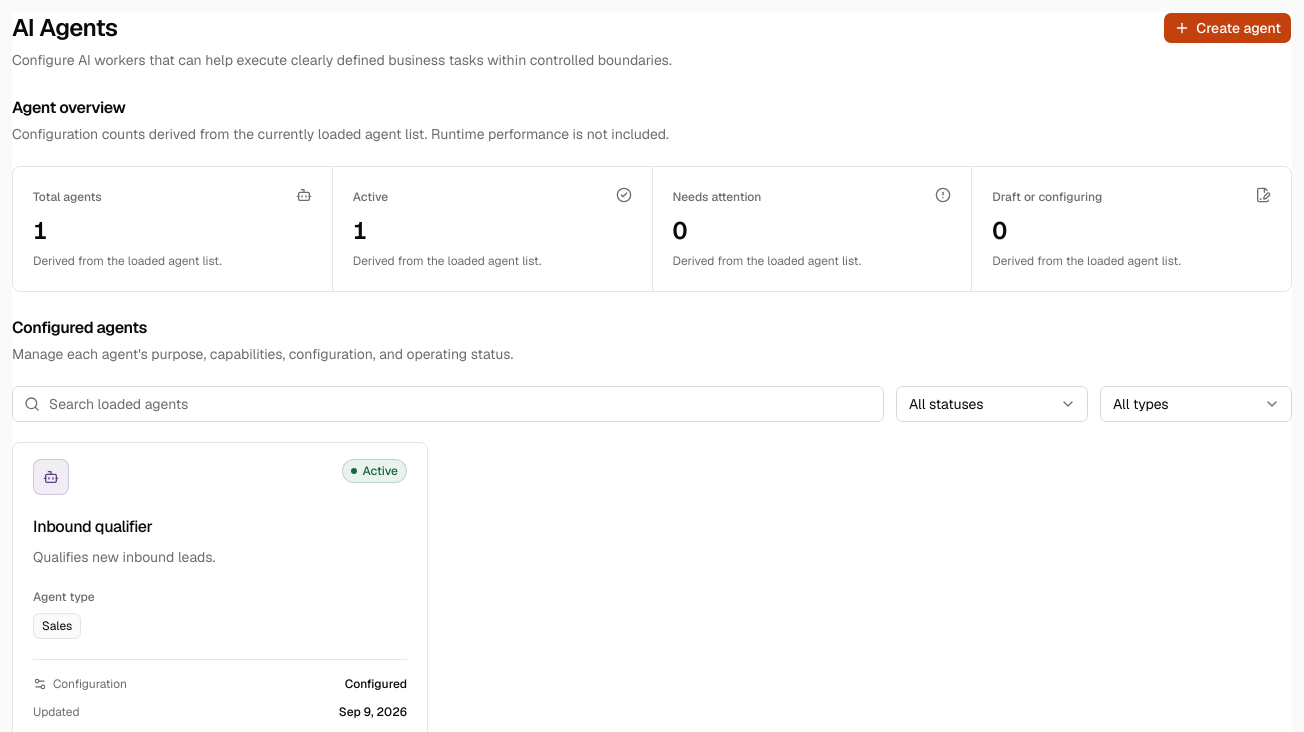
Test: AI Agents page › searches only within the fetched list
Expected: the heading "Inbound qualifier" is shown, [33,516,152,537]
Type "support" into the search field labelled "Search loaded agents" at [448, 404], box [12,386,884,422]
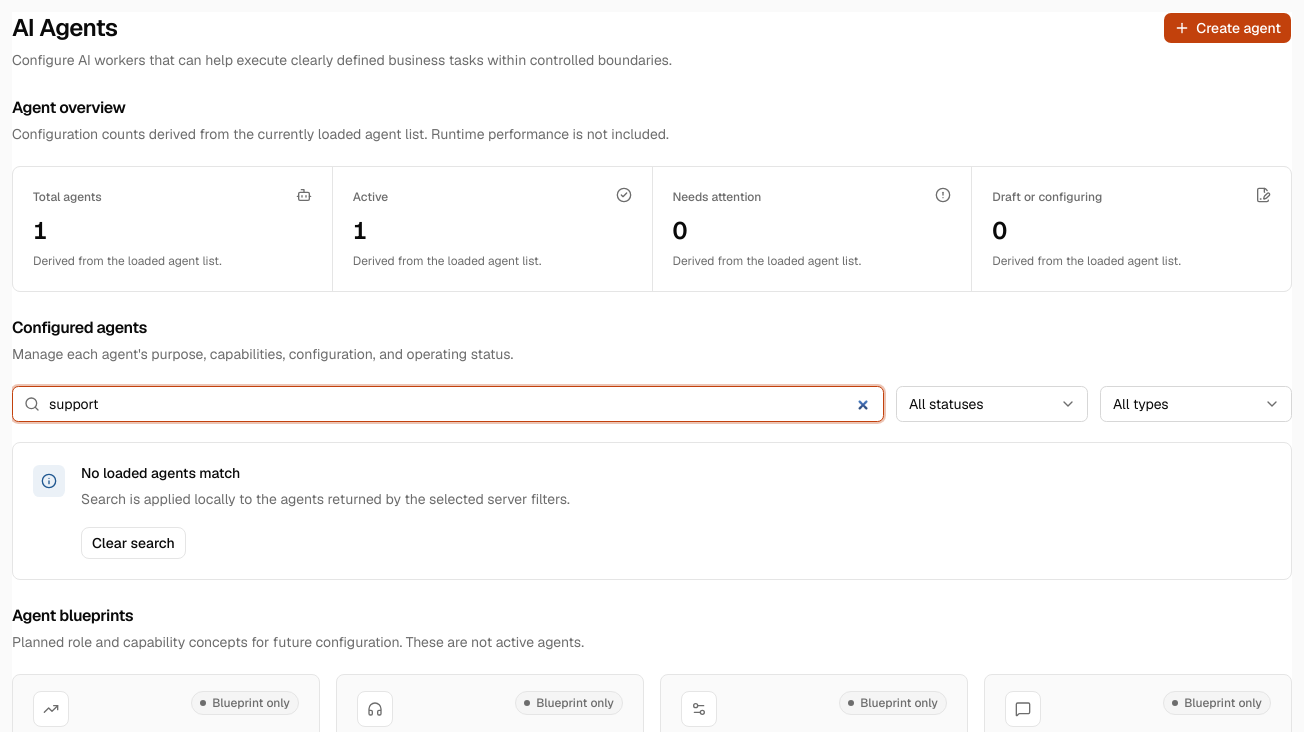
Expected: the heading "No loaded agents match" is shown, [81,464,240,482]
Expected: the text "applied locally" is shown, [81,490,570,508]
